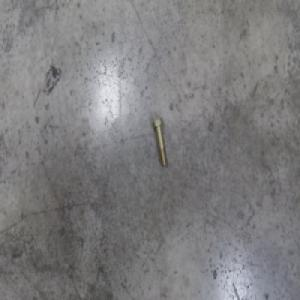Bolt: (150, 117, 166, 167)
